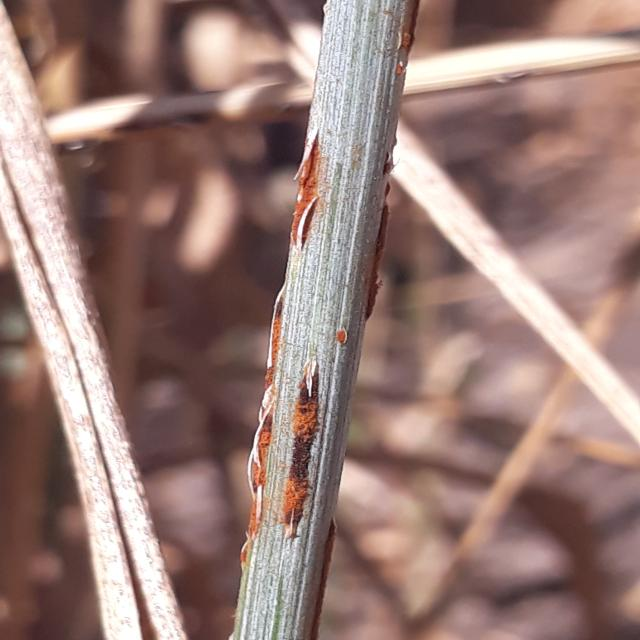black_stem_rust: (0, 8, 463, 640)
